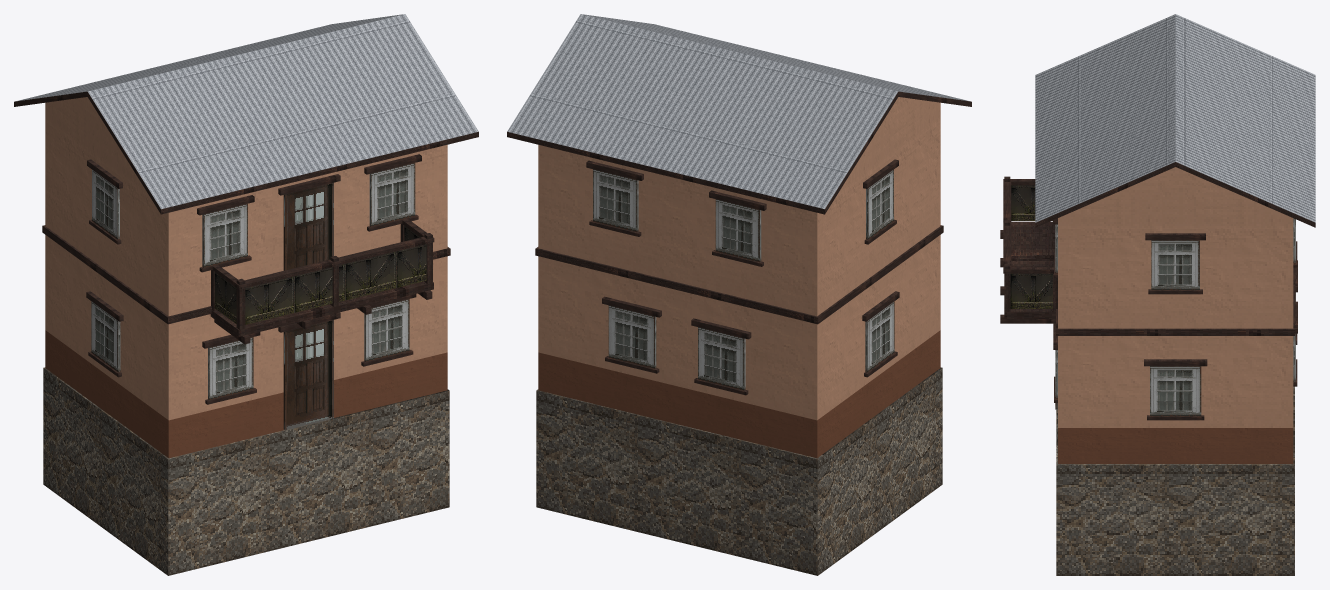
The model's file is 13_andina2p_durazno_calamina.glb.
3 renders of one model, left to right at view 1: azimuth 30°, elevation 25°; view 2: azimuth 150°, elevation 25°; view 3: azimuth 270°, elevation 25°, orthographic. The views are drawn at different scales.
Parts seen in each view (by area): view 1: 13_andina2p_durazno_calamina; view 2: 13_andina2p_durazno_calamina; view 3: 13_andina2p_durazno_calamina.
Part boxes in pixels (x1=…): 13_andina2p_durazno_calamina: x1=14, y1=14, x2=478, y2=575; 13_andina2p_durazno_calamina: x1=507, y1=14, x2=971, y2=575; 13_andina2p_durazno_calamina: x1=1000, y1=14, x2=1315, y2=575.
Bounding box in the file's own units: 6.84 × 9.11 × 6.17.
Materials: 8 (8 with a texture image).
